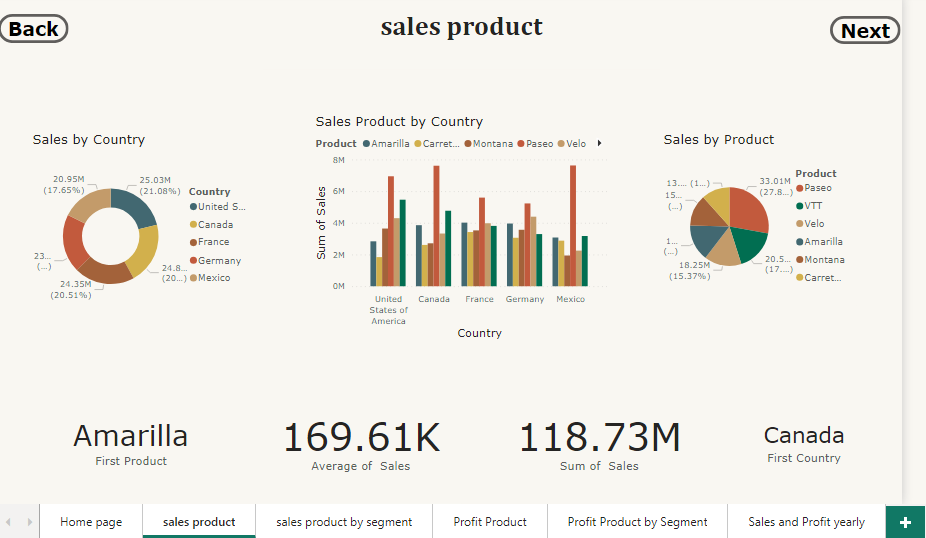

The dashboard page shown, as its layout file describes it:
{"tool":"powerbi","page":{"name":"Page 2","canvas":[1280,720],"ordinal":1},"visuals":[{"type":"textbox","box":[376,15.1,562.6,89.2],"z":0},{"type":"clusteredColumnChart","title":" Sales Product by Country","fields":{"Category":["financials.Country"],"Y":["Sum(financials. Sales)"],"Series":["financials.Product"]},"box":[426.8,282.7,424,325.2],"z":1000},{"type":"card","fields":{"Values":["Sum(financials. Sales)"]},"box":[489.9,111.1,300.5,156.4],"z":2000},{"type":"card","fields":{"Values":["Min(financials.Country)"]},"box":[135.8,104.3,277.2,178.4],"z":3000},{"type":"card","fields":{"Values":["Min(financials.Product)"]},"box":[826.1,104.3,300.5,178.4],"z":4000},{"type":"donutChart","title":" Sales by Country","fields":{"Y":["Sum(financials. Sales)"],"Category":["financials.Country"]},"box":[24.7,307.4,326.6,275.8],"z":5000},{"type":"pieChart","title":" Sales by Product","fields":{"Y":["Sum(financials. Sales)"],"Category":["financials.Product"]},"box":[953.7,315.6,278.6,248.4],"z":6000},{"type":"actionButton","box":[1179.5,27.7,100.1,39.8],"z":7000},{"type":"actionButton","box":[0,26.1,100.2,41.2],"z":8000}]}

Visuals, with their boxes on the page's 1280x720 design canvas (x1, y1, x2, y2). These are canvas units, not pixel positions in the 926x538 screenshot, which may show the page scaled, cropped or inside an application window:
textbox: locate(376, 15, 939, 104)
" Sales Product by Country" clusteredColumnChart: locate(427, 283, 851, 608)
card - Sum(financials. Sales): locate(490, 111, 790, 268)
card - Min(financials.Country): locate(136, 104, 413, 283)
card - Min(financials.Product): locate(826, 104, 1127, 283)
" Sales by Country" donutChart: locate(25, 307, 351, 583)
" Sales by Product" pieChart: locate(954, 316, 1232, 564)
actionButton: locate(1180, 28, 1280, 68)
actionButton: locate(0, 26, 100, 67)
